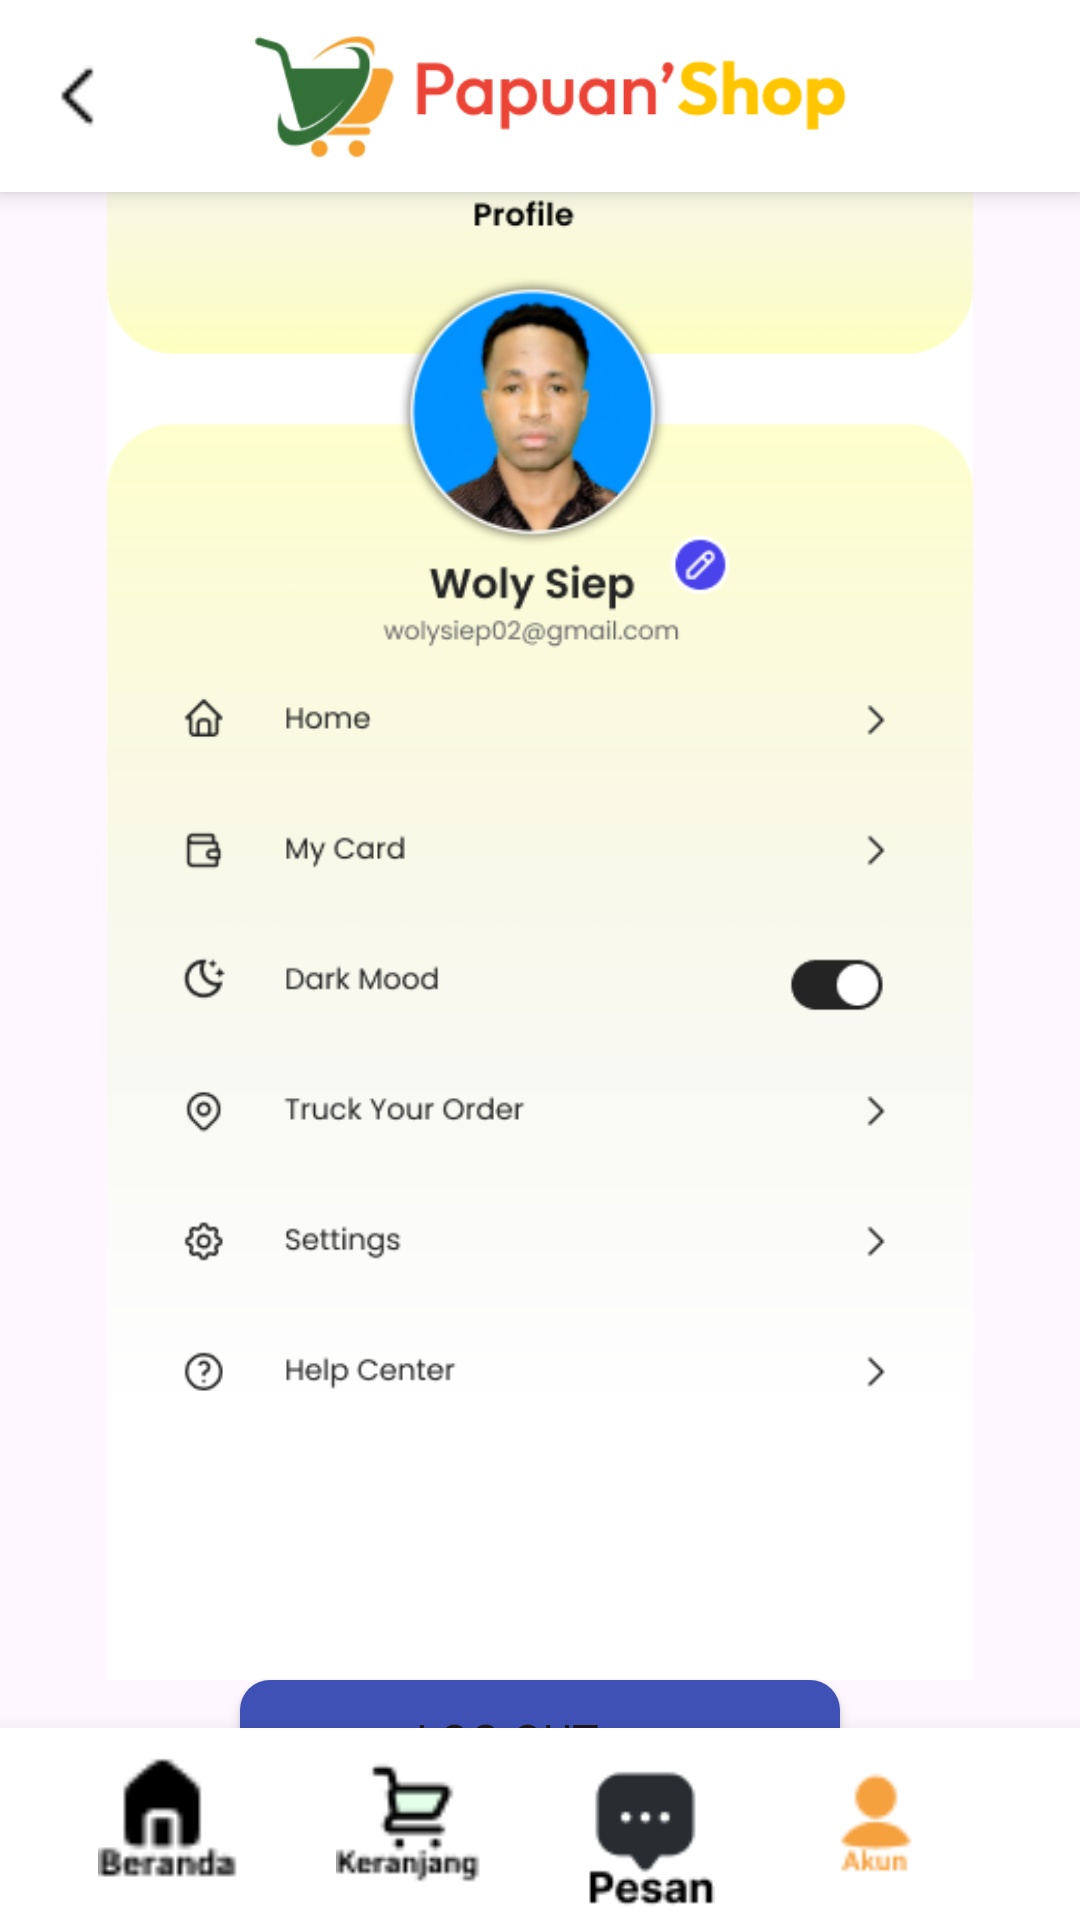

Screen size 1080x1920. Icon name, then its center in pixels as (x=x, y=y):
back: (x=77, y=96)
